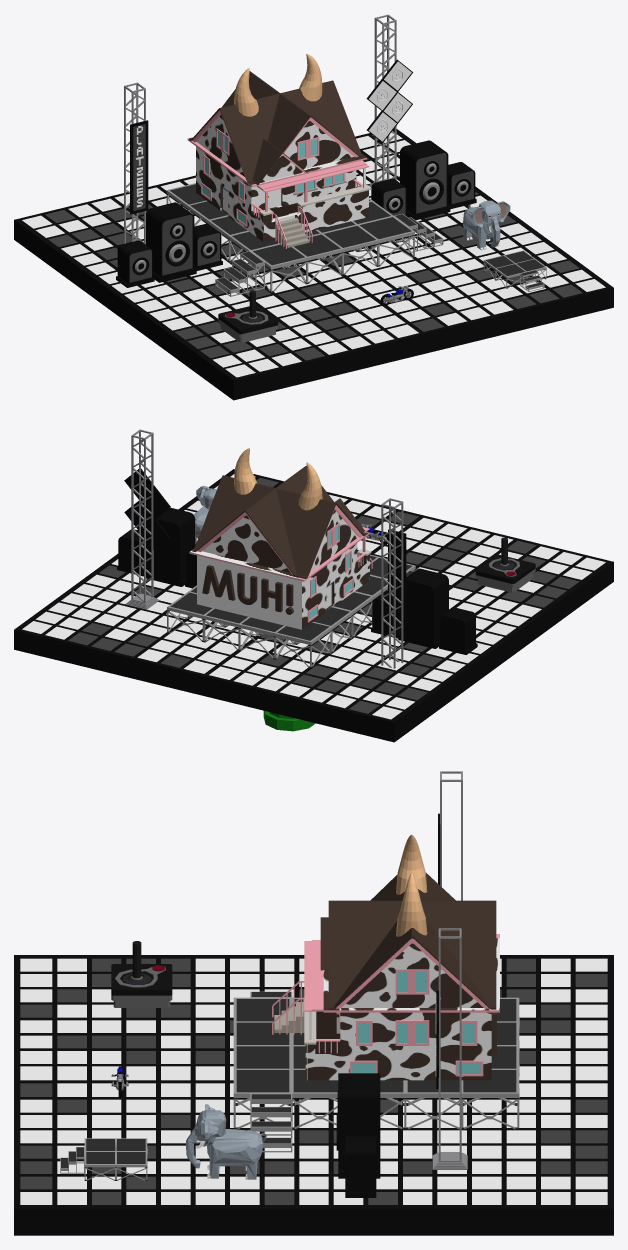
3 views of the same model, one above another, from view 1: azimuth 30°, elevation 25°; view 2: azimuth 150°, elevation 25°; view 3: azimuth 270°, elevation 25° (orthographic). The views are drawn at different scales.
Visible parts, largest first — view 1: Cube.008, Cube.1242, OBJRANDOM_JOYSTICK, ANIMAL_ELEFANTE; view 2: Cube.008, Cube.1242, OBJRANDOM_JOYSTICK, UNDERGROUND_PIPES, ANIMAL_ELEFANTE; view 3: Cube.008, Cube.1242, ANIMAL_ELEFANTE, OBJRANDOM_JOYSTICK.
Boxes of the visible parts, x1,y1,x2,y2 form: Cube.008: (14,14,613,400); Cube.1242: (187,54,371,248); OBJRANDOM_JOYSTICK: (218,290,278,342); ANIMAL_ELEFANTE: (463,200,510,250); Cube.008: (14,429,613,742); Cube.1242: (189,448,372,629); OBJRANDOM_JOYSTICK: (475,537,535,592); UNDERGROUND_PIPES: (263,711,315,731); ANIMAL_ELEFANTE: (193,485,216,544); Cube.008: (14,771,613,1235); Cube.1242: (272,834,499,1080); ANIMAL_ELEFANTE: (186,1104,266,1179); OBJRANDOM_JOYSTICK: (111,941,172,1007).
Bounding box in the file's own units: 4000 × 2555 × 4000.
Materials: 42 (1 with a texture image).
